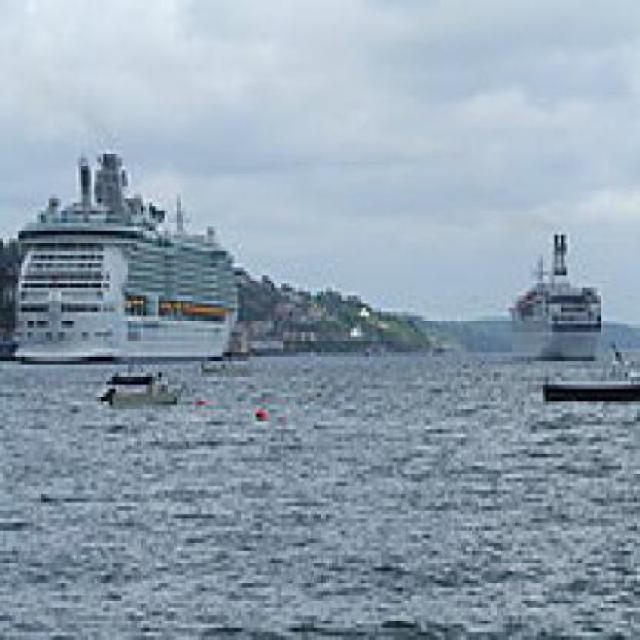cruise: (1, 126, 267, 440), (474, 224, 617, 370), (540, 341, 639, 430)
